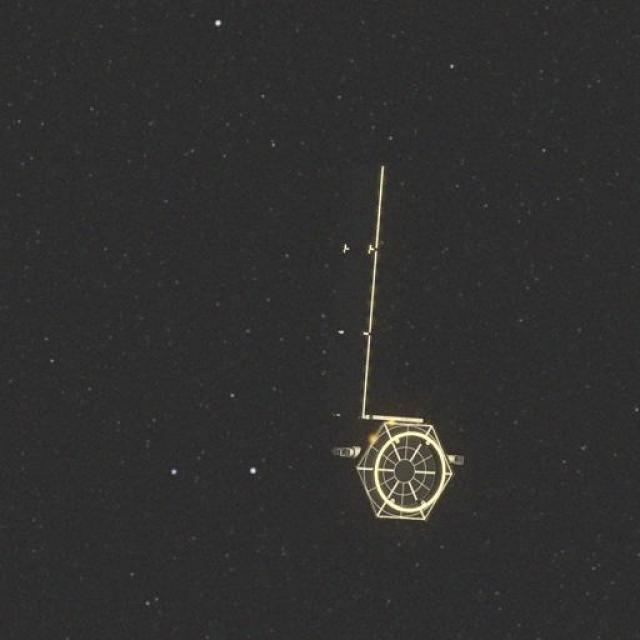earth_observation_sat_1: (297, 291, 475, 538)
